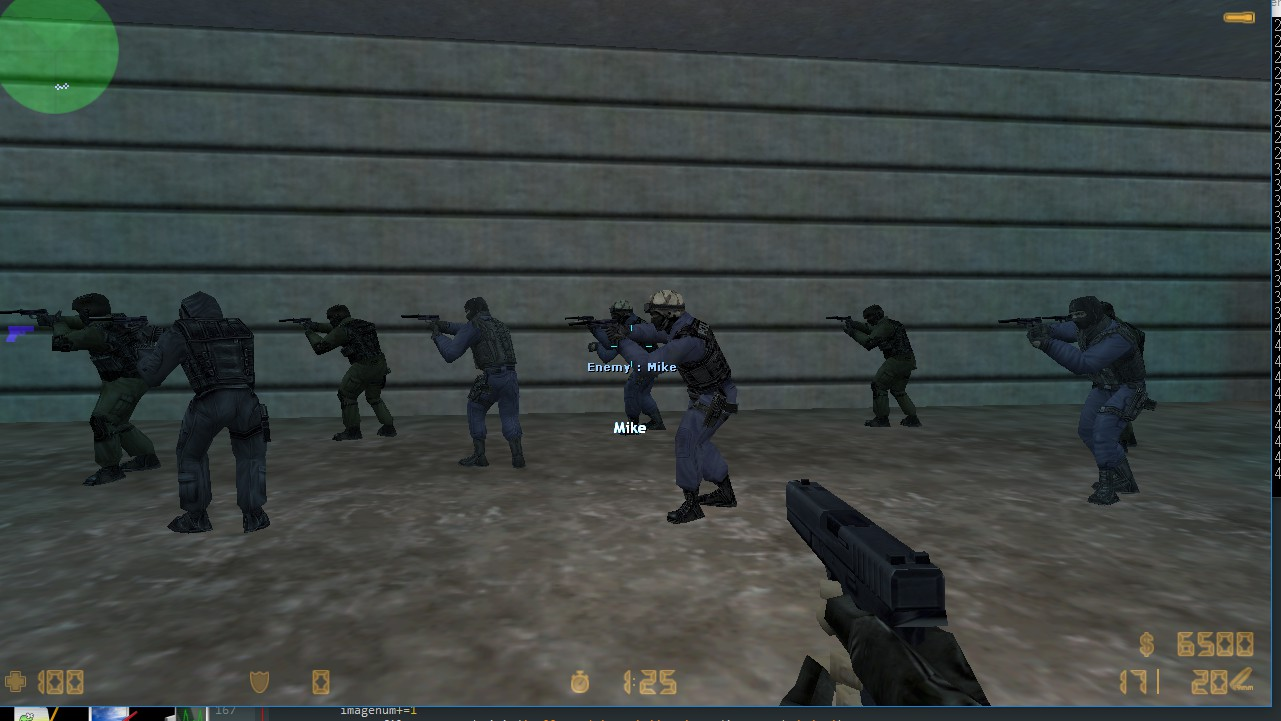person: (138, 291, 281, 540), (1010, 288, 1149, 529), (629, 291, 746, 533), (392, 290, 539, 477), (41, 288, 162, 493), (275, 296, 402, 447), (827, 295, 929, 448)
